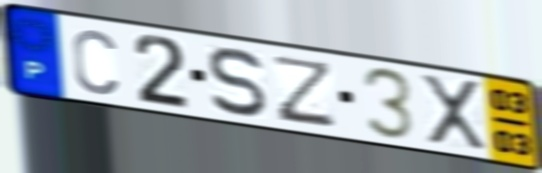2: (132, 32, 193, 113)
3: (360, 64, 417, 143)
C: (69, 26, 121, 98)
S: (206, 45, 269, 120)
X: (417, 72, 491, 153)
Z: (274, 53, 337, 130)
